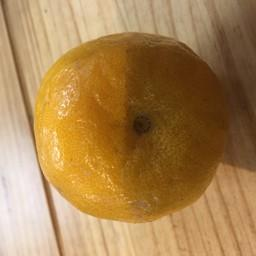Good_orange: (25, 32, 255, 226)
